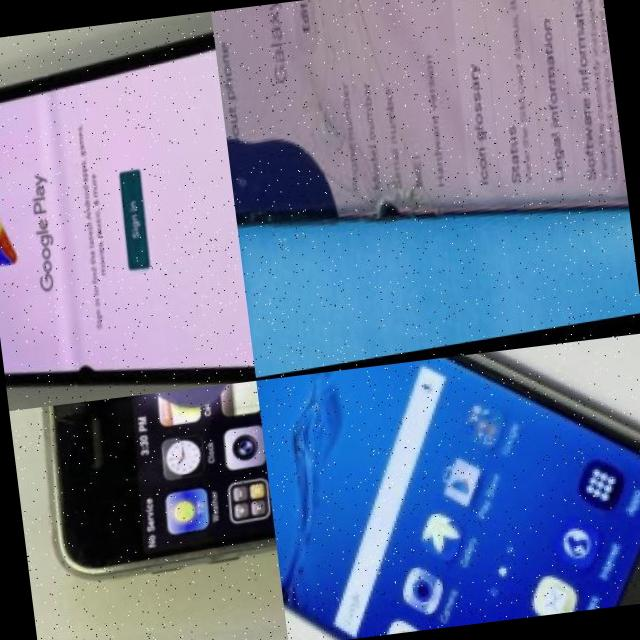dead pixel: (225, 110, 352, 262), (113, 382, 250, 444), (61, 342, 110, 403)
screen crack: (283, 0, 460, 273)
